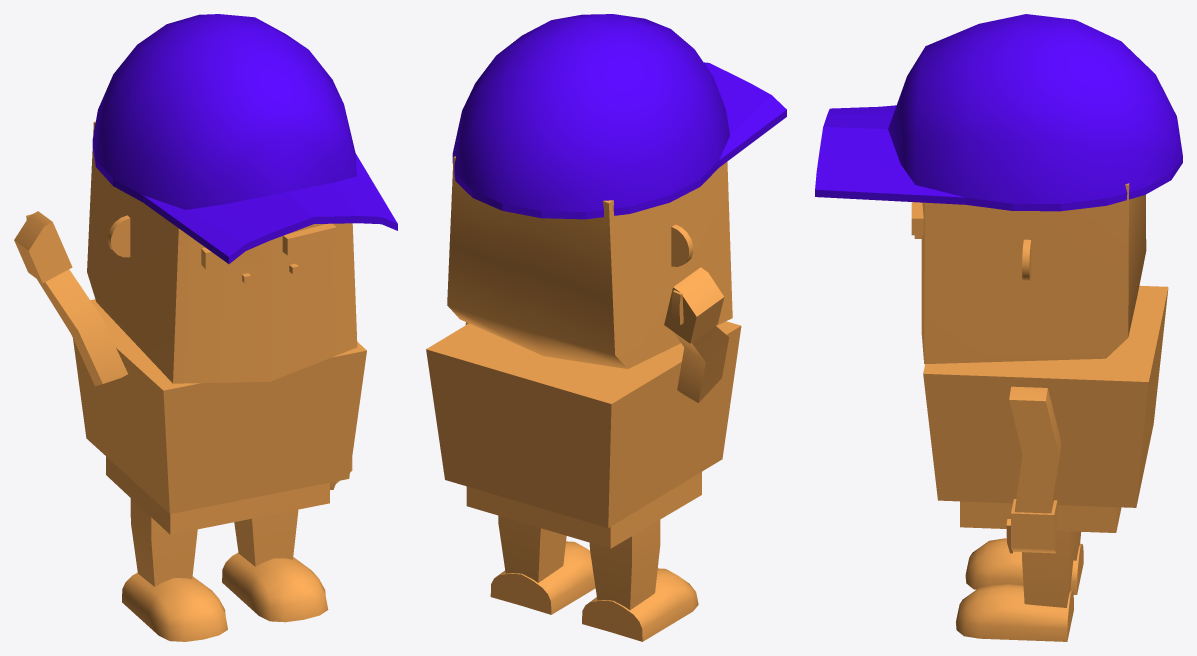
File: normalkid.fbx
The picture shows the model from 3 angles, left to right: view 1: azimuth 30°, elevation 25°; view 2: azimuth 150°, elevation 25°; view 3: azimuth 270°, elevation 25°; orthographic projection.
Visible parts, largest first — view 1: child normal004; view 2: child normal004; view 3: child normal004.
Part boxes in pixels (box(x1,y1,x2,y2)): child normal004: box(14, 14, 397, 641); child normal004: box(426, 14, 786, 641); child normal004: box(815, 14, 1182, 641).
Size of the model in its own units: 34.71 by 66.88 by 38.55.
